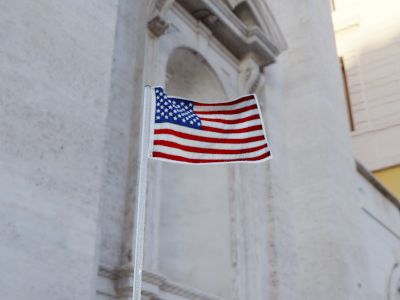America flag: (151, 85, 274, 164)
